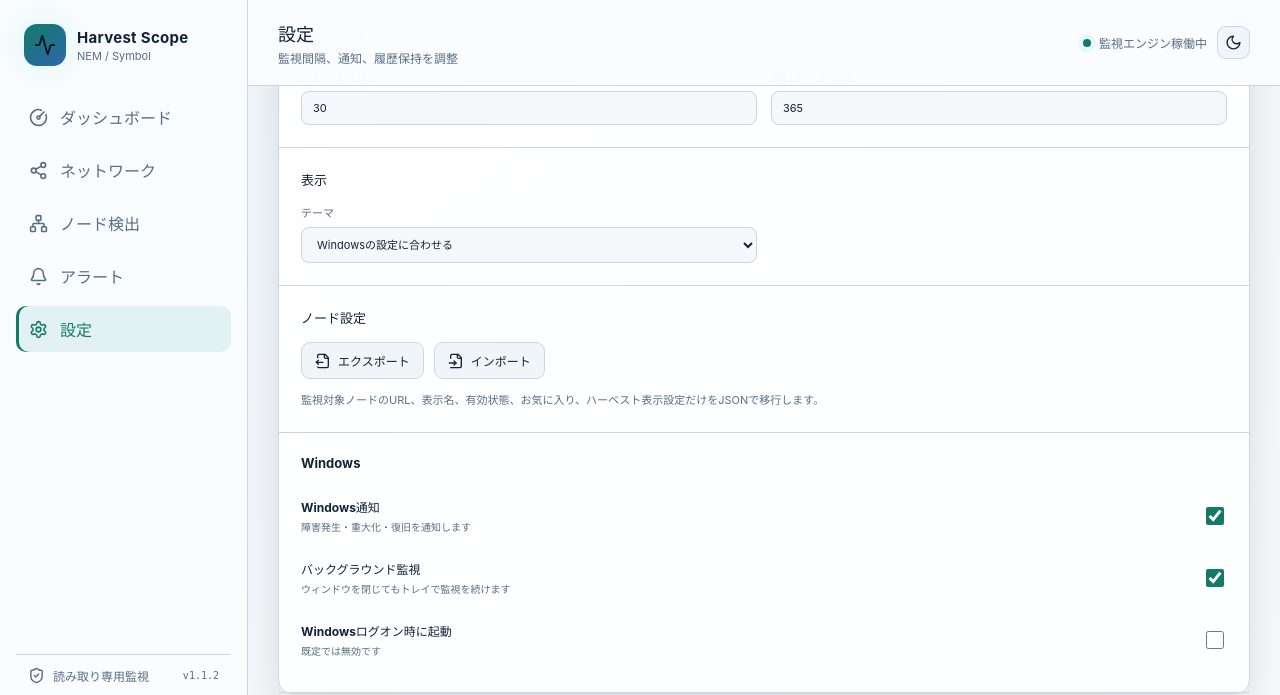
Test: 設定画面からノード設定をエクスポートする
The width and height of the screenshot is (1280, 695).
(page scrolled)
Click the button "エクスポート". click: (362, 360)
box: [301,342,424,379]
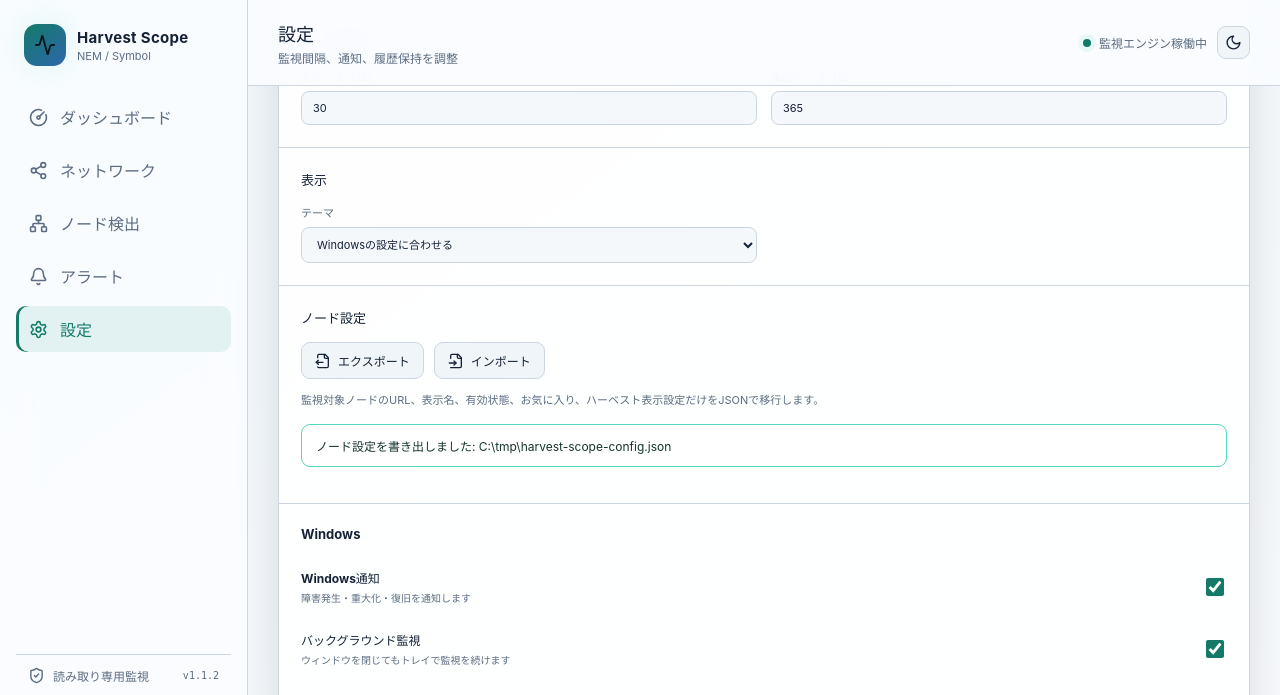
Check: the text "ノード設定を書き出しました: C:\\tmp\\harvest-scope-config.json" is shown, box [301,424,1227,467]
